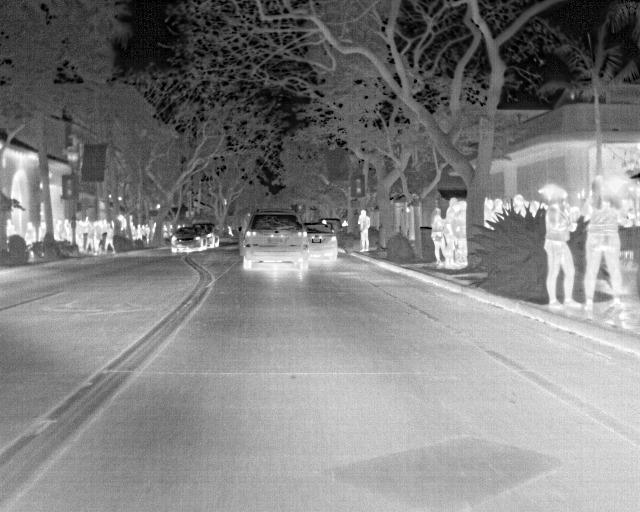bicycle: (240, 208, 308, 269), (303, 221, 339, 263), (171, 227, 207, 254), (191, 221, 219, 248)
empty: (582, 177, 626, 310), (542, 189, 584, 308), (444, 196, 462, 270), (428, 209, 443, 267), (355, 207, 373, 251), (102, 220, 118, 255), (80, 214, 93, 252), (510, 192, 528, 218), (24, 218, 38, 248), (61, 214, 74, 244), (4, 218, 17, 245)
